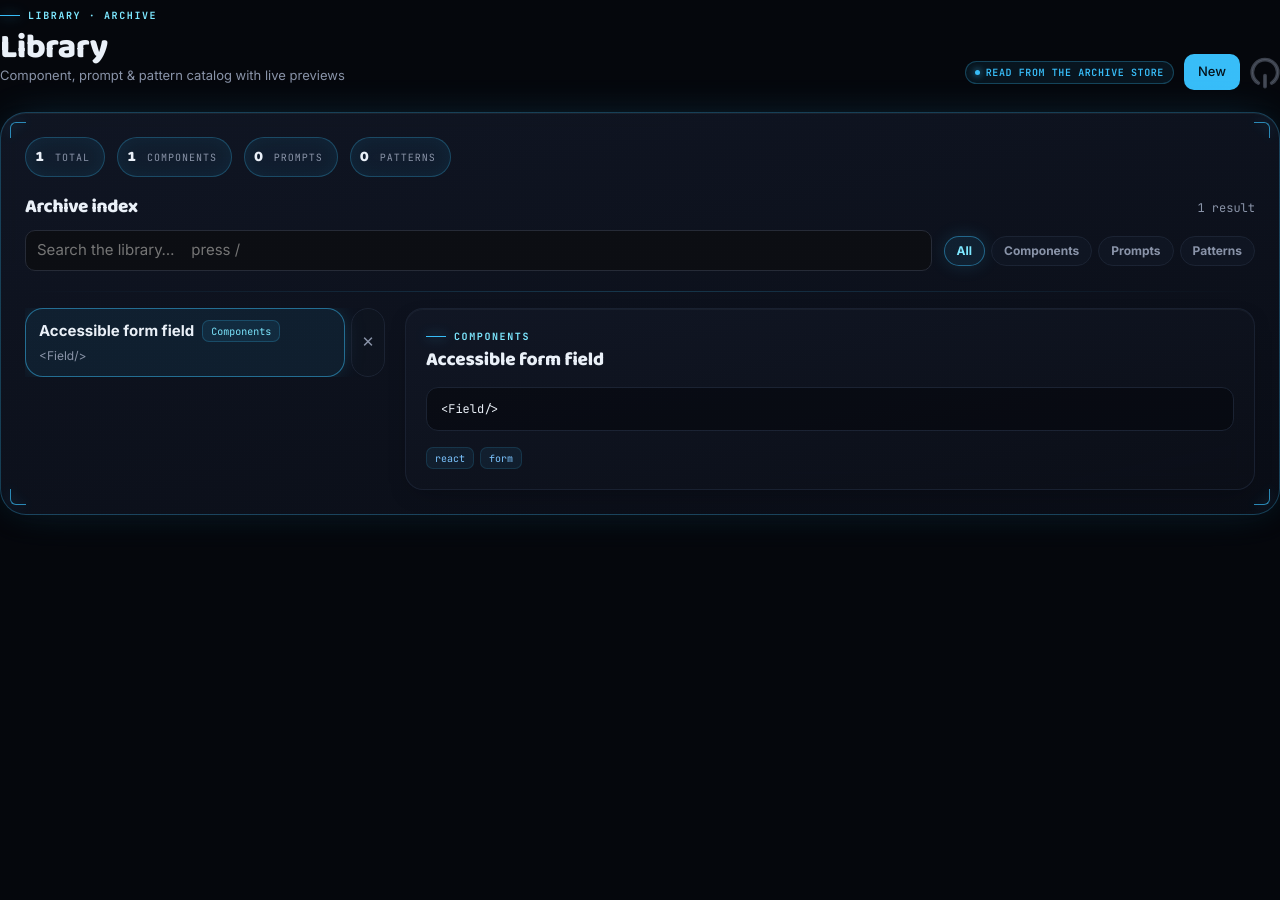
it: Library — the confirm button says the delete is in flight › reads "Deleting…" until the backend answers
Check: the text "Accessible form field" is shown, box [39,320,194,342]
What coordinates should you click on to do the following:
click the button "✕"
I would click on:
 (368, 343)
Its box is [351,308,385,377].
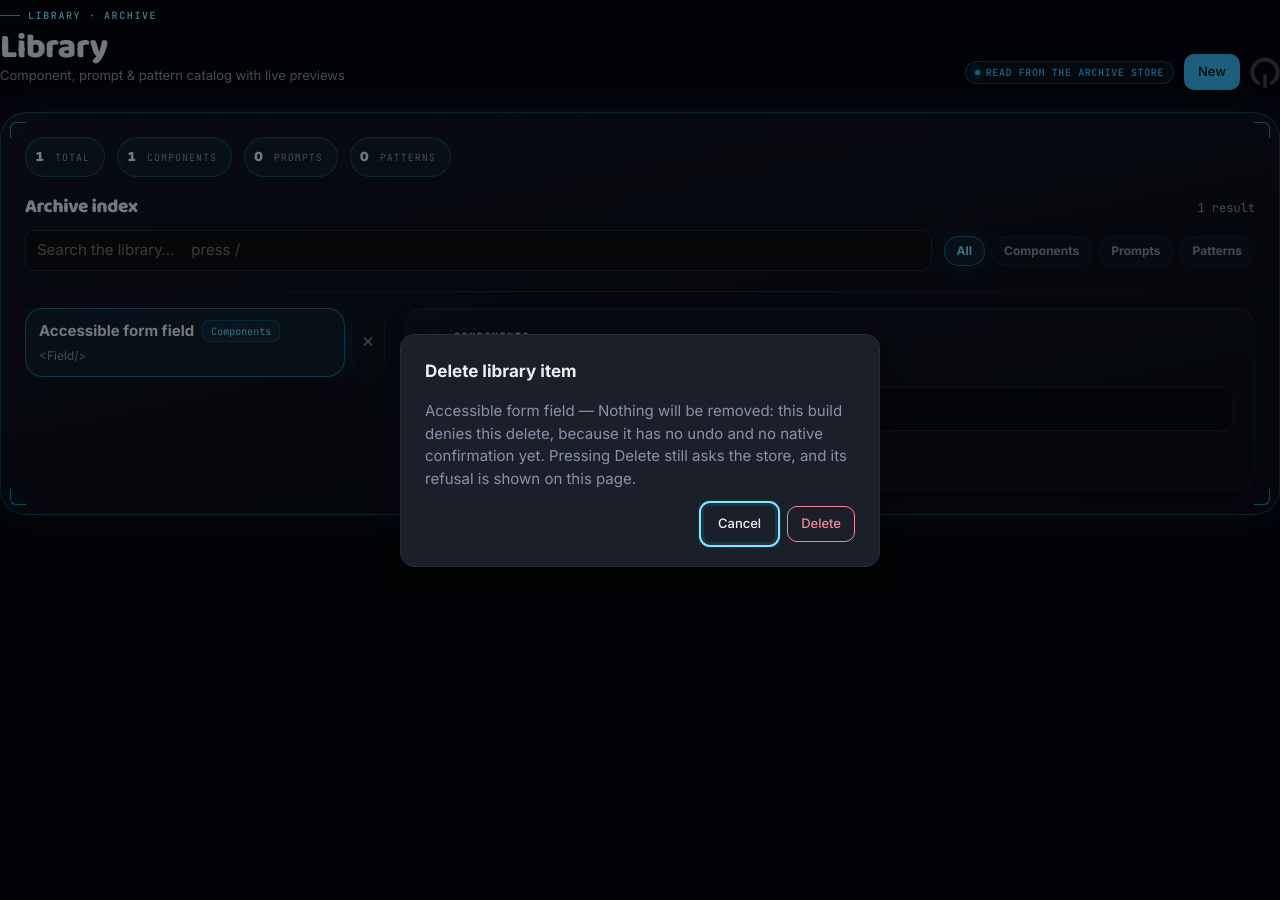
Check: the dialog does not show "can.t be undone", box [400,334,880,566]
Check: the dialog shows "Nothing will be removed", box [425,401,847,488]
Check: the button "Delete" is shown
What coordinates should you click on to do the following:
click the button "Delete"
I would click on:
 (821, 524)
Its box is [787,506,855,542].
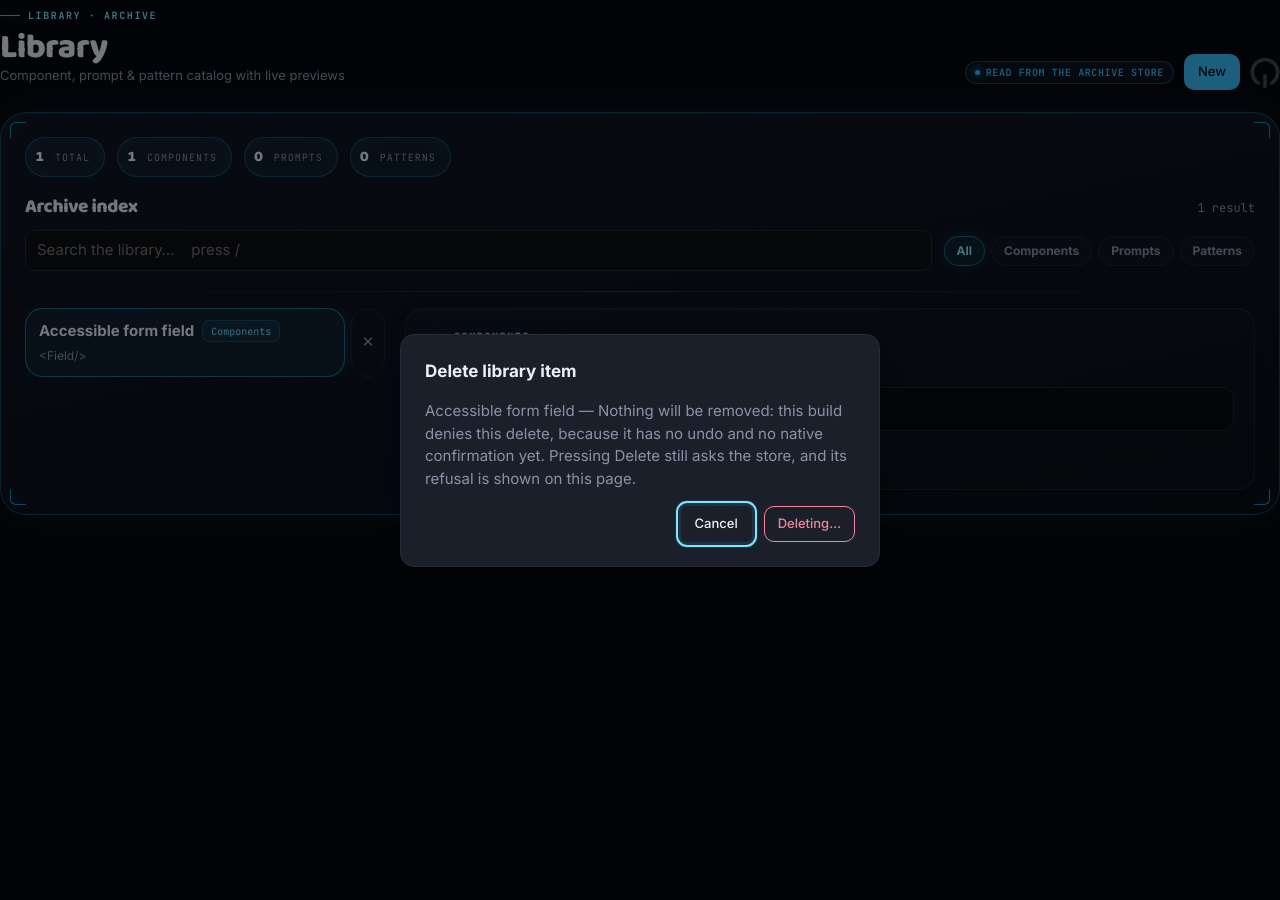
Check: the dialog shows "Deleting…", box [764,506,855,542]
